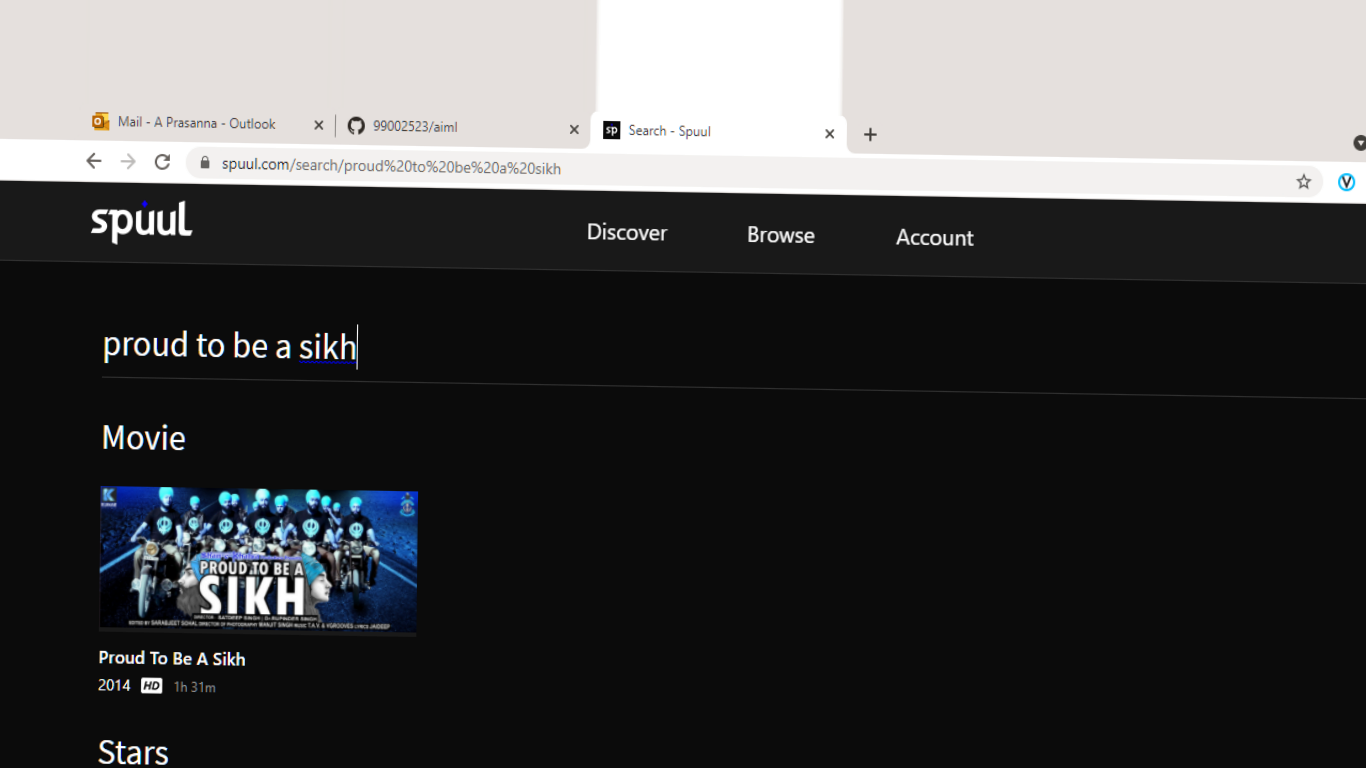myaccountbutton: (875, 216, 990, 274)
resultsfound: (100, 404, 253, 460)
searchtextbox: (96, 304, 626, 383)
